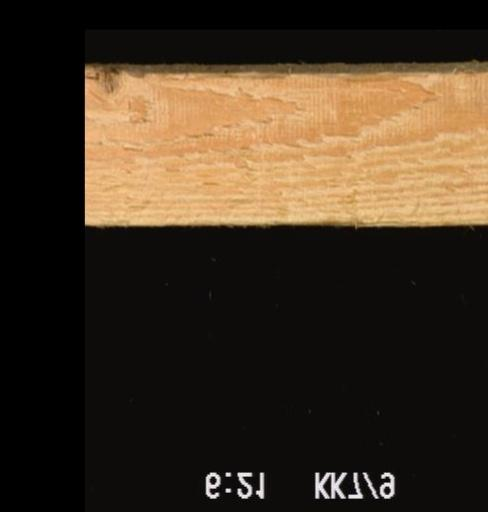edge_knot: (84, 64, 121, 97)
